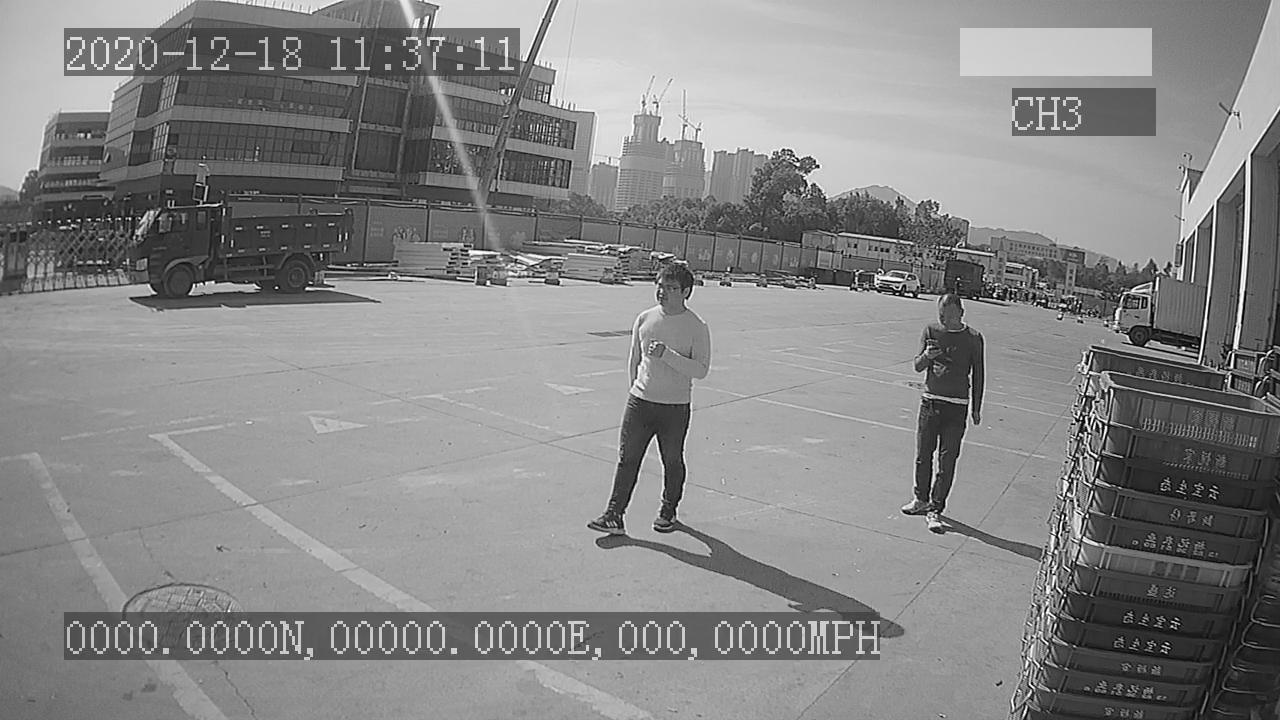person: (588, 258, 715, 540), (897, 287, 985, 532)
